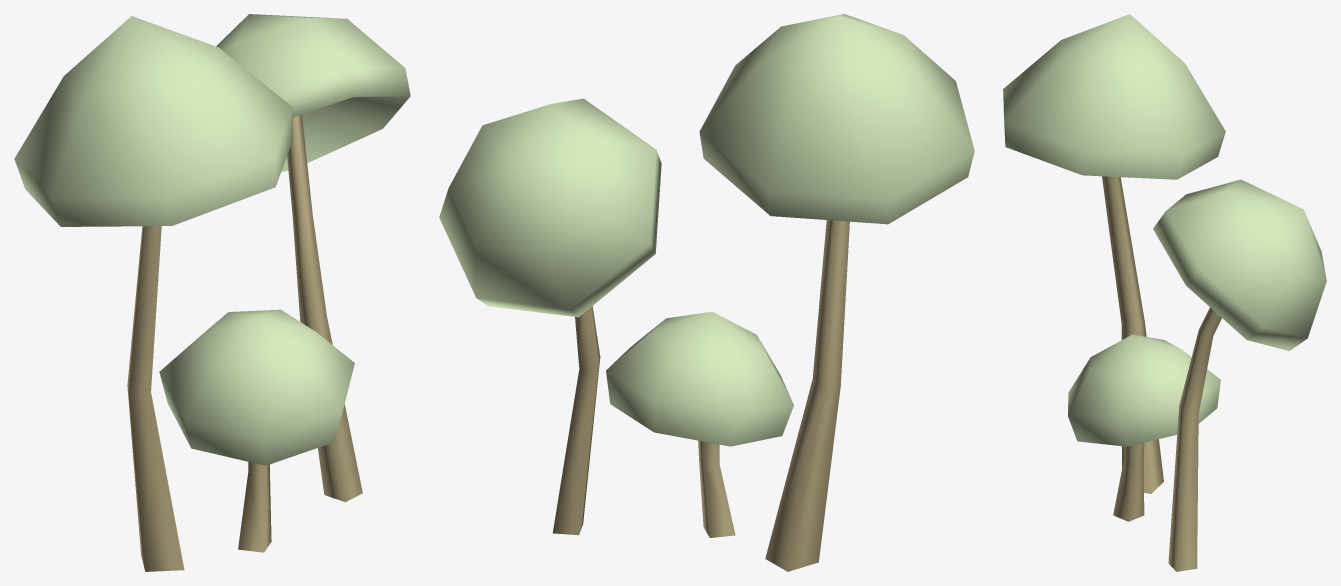
File: mushroom_02.fbx
The picture shows the model from 3 angles, left to right: view 1: azimuth 30°, elevation 25°; view 2: azimuth 150°, elevation 25°; view 3: azimuth 270°, elevation 25°; orthographic projection. The views are drawn at different scales.
Visible parts, largest first — view 1: mushroom_02; view 2: mushroom_02; view 3: mushroom_02.
Boxes of the visible parts, x1,y1,x2,y2 form: mushroom_02: (14, 14, 410, 571); mushroom_02: (439, 14, 974, 571); mushroom_02: (1003, 14, 1326, 571).
Size of the model in its own units: 72.69 by 89.3 by 57.49.
